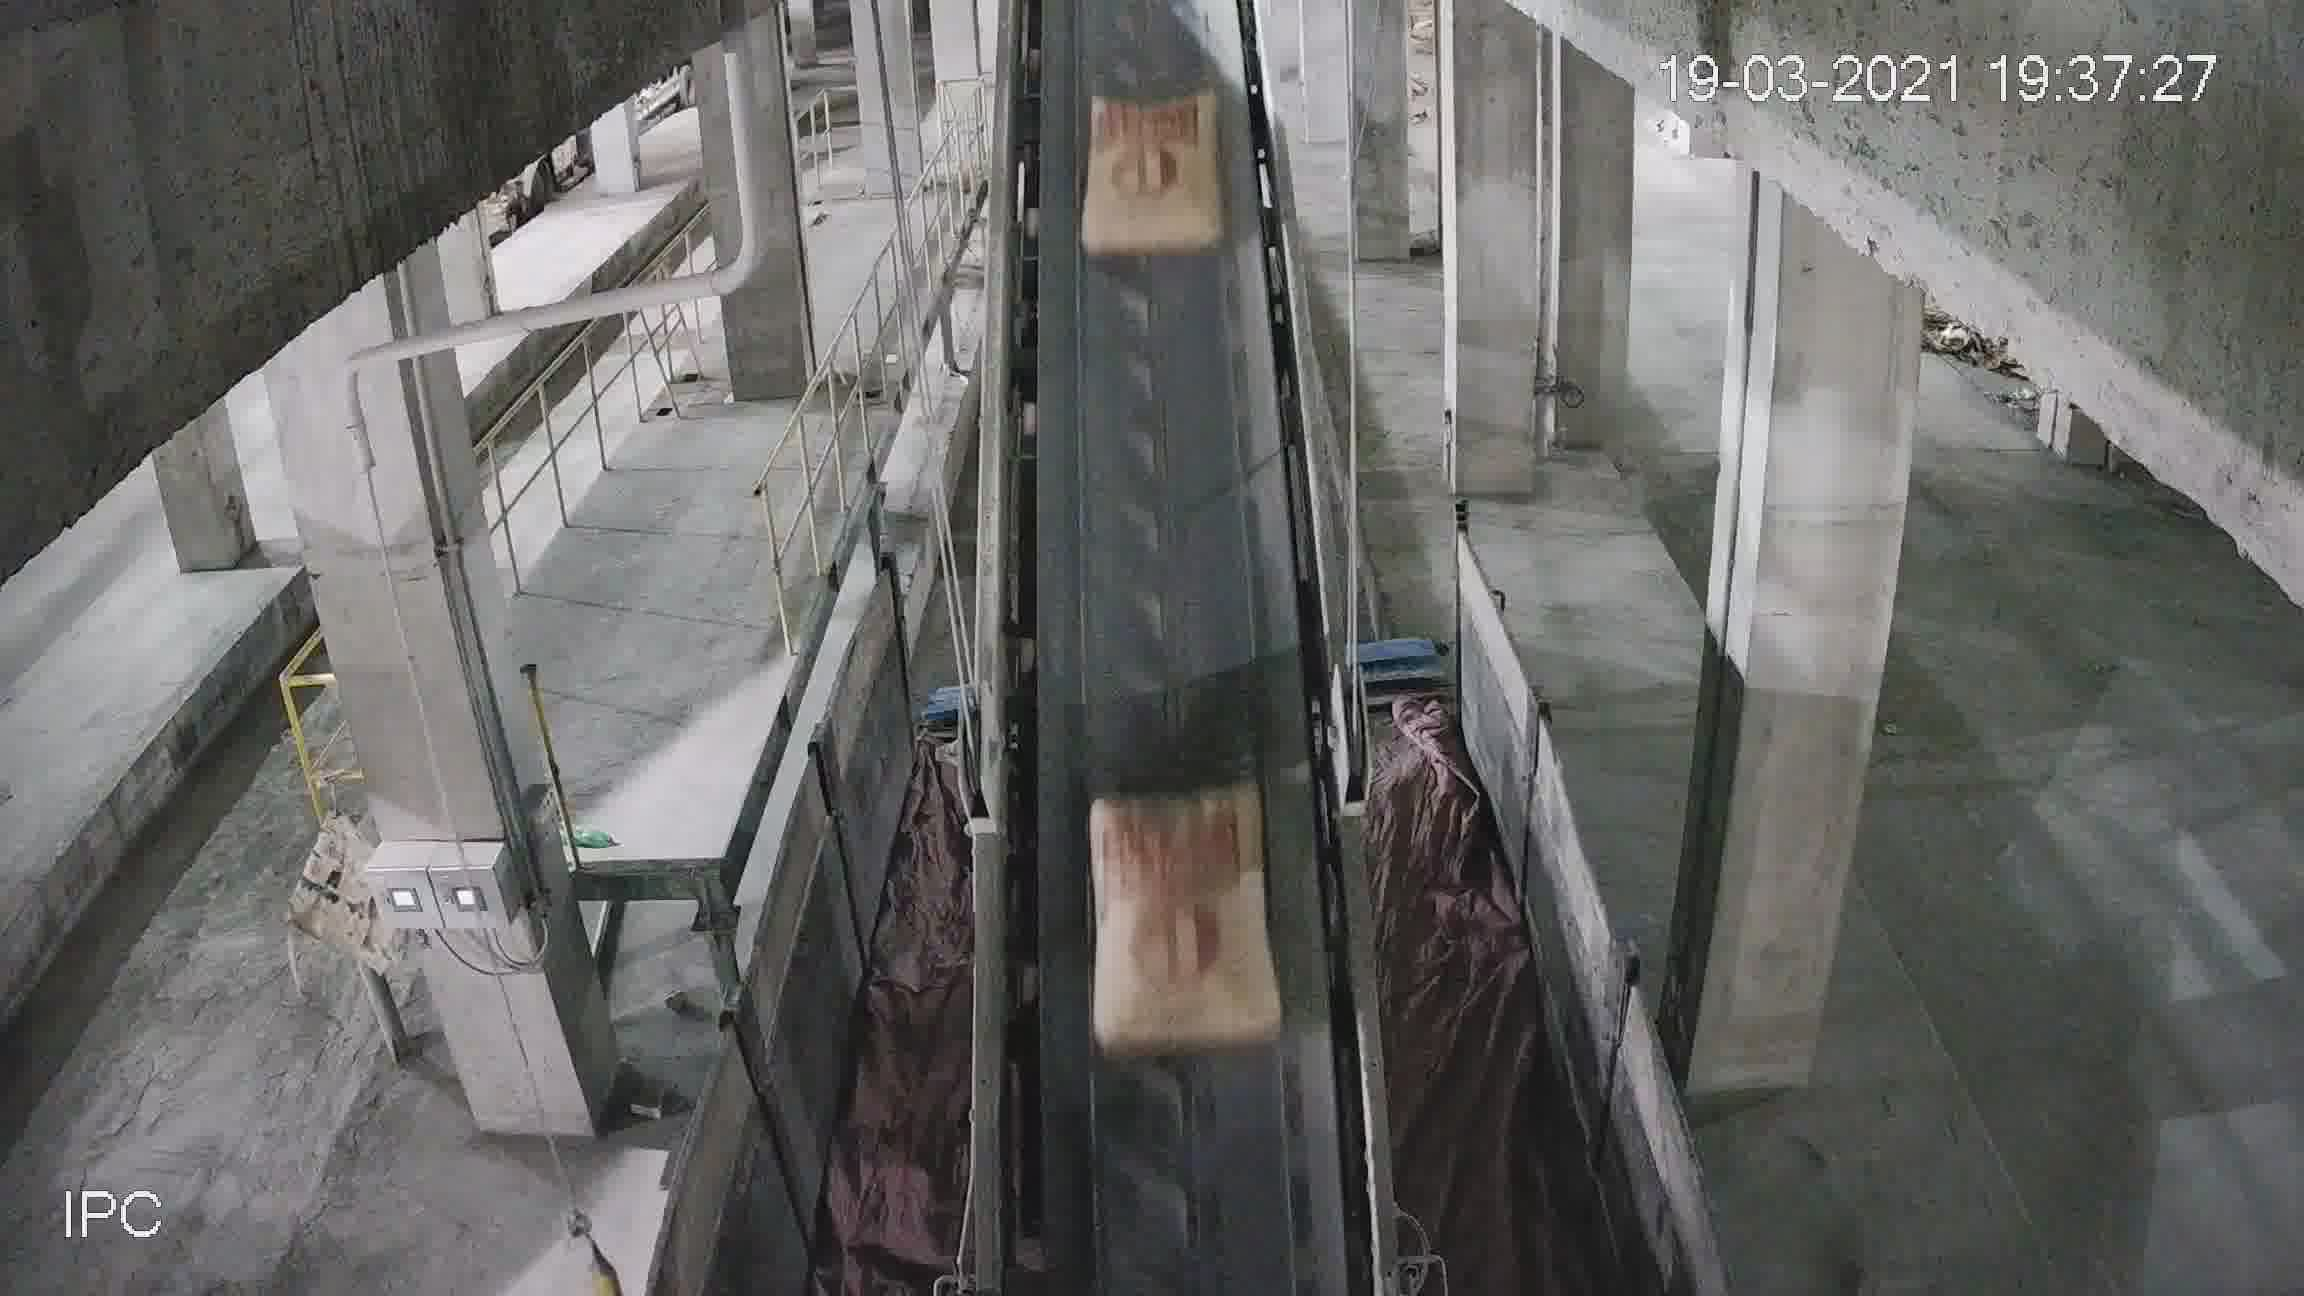bag: (1090, 791, 1271, 1052), (1082, 97, 1225, 260)
belt: (980, 142, 1367, 1180)
